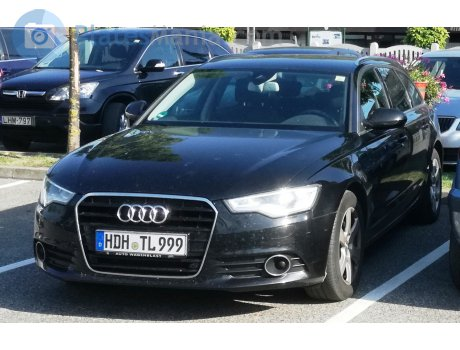License Plates: (106, 229, 186, 248)
